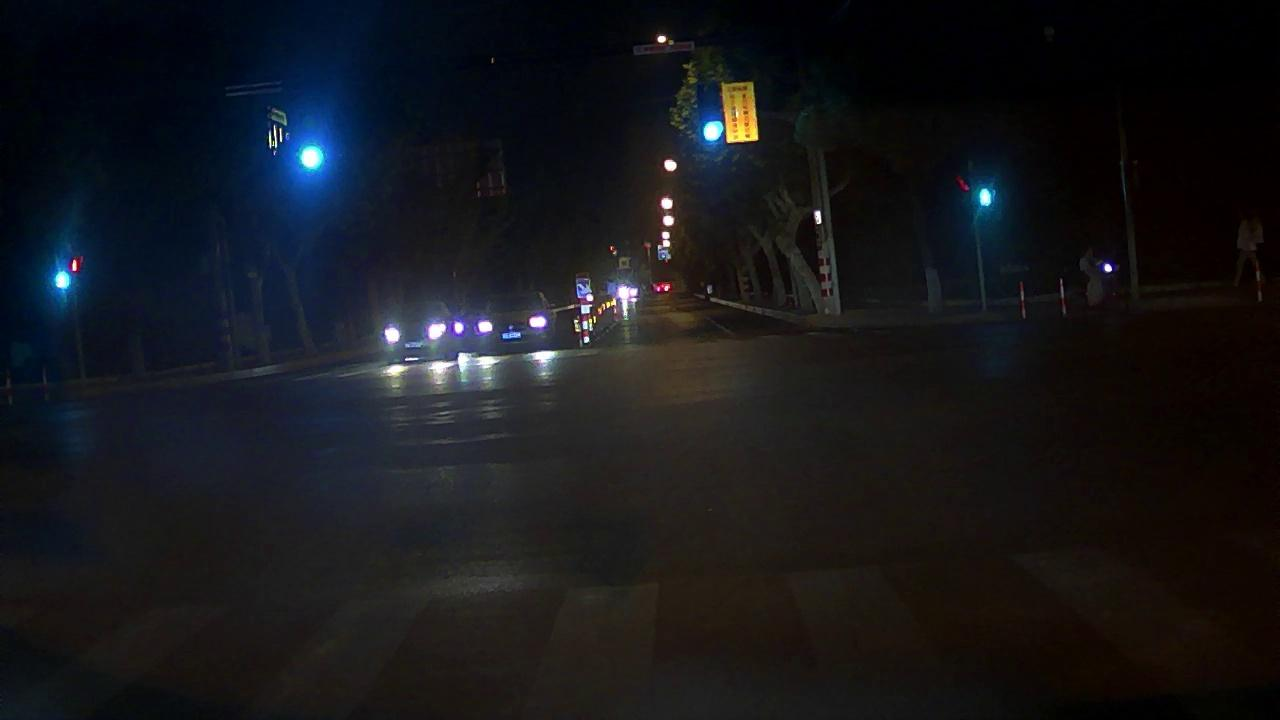traffic_light: (289, 137, 332, 178), (696, 115, 728, 147), (51, 265, 78, 294)
